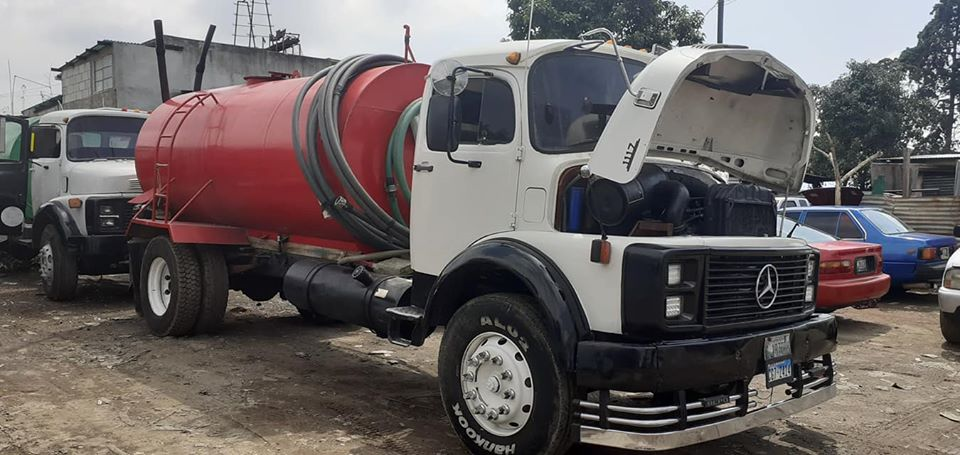camion: (138, 41, 839, 443), (2, 101, 132, 306)
